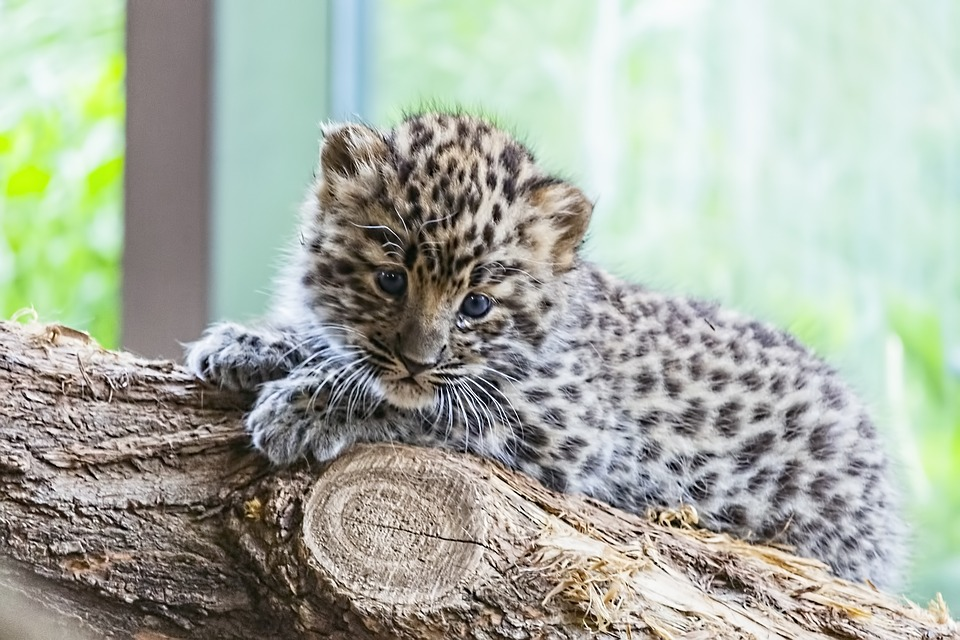amur_leopard: (208, 73, 899, 496)
